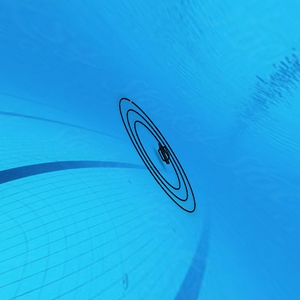circle: (108, 88, 224, 225)
submarine: (157, 143, 170, 168)
